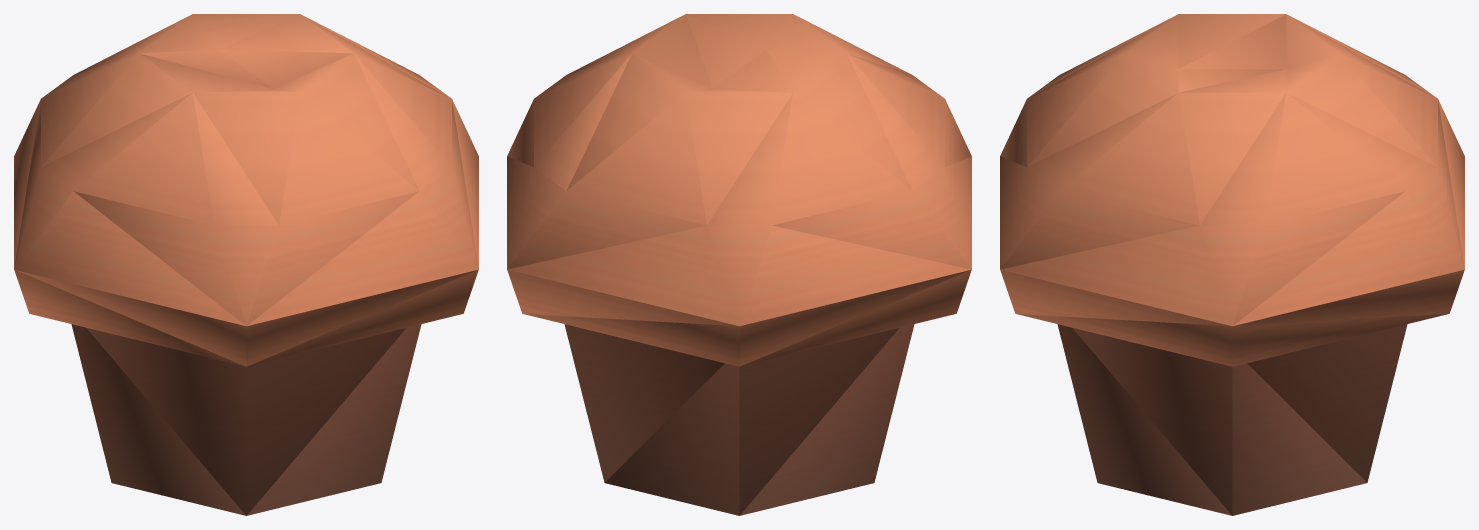
File: muffin.fbx
3 views of the same model, side by side, from view 1: azimuth 30°, elevation 25°; view 2: azimuth 150°, elevation 25°; view 3: azimuth 270°, elevation 25° (orthographic).
Visible parts, largest first — view 1: muffin; view 2: muffin; view 3: muffin.
Part boxes in pixels (x1=…): muffin: x1=14, y1=14, x2=478, y2=515; muffin: x1=507, y1=14, x2=971, y2=515; muffin: x1=1000, y1=14, x2=1464, y2=515.
Size of the model in its own units: 0.11 by 0.0897 by 0.0953.
